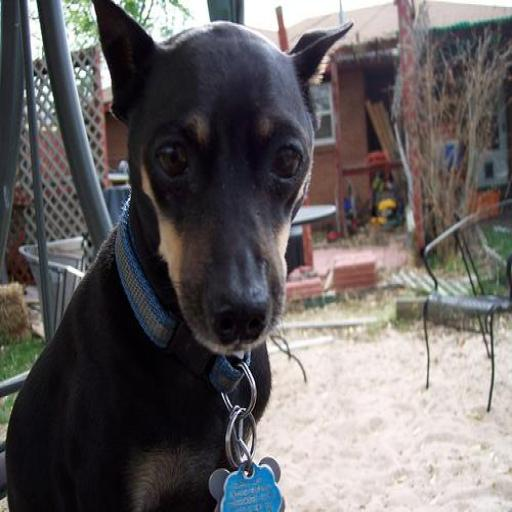dog_face: (92, 5, 341, 368)
